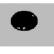correct: (9, 8, 39, 32)
